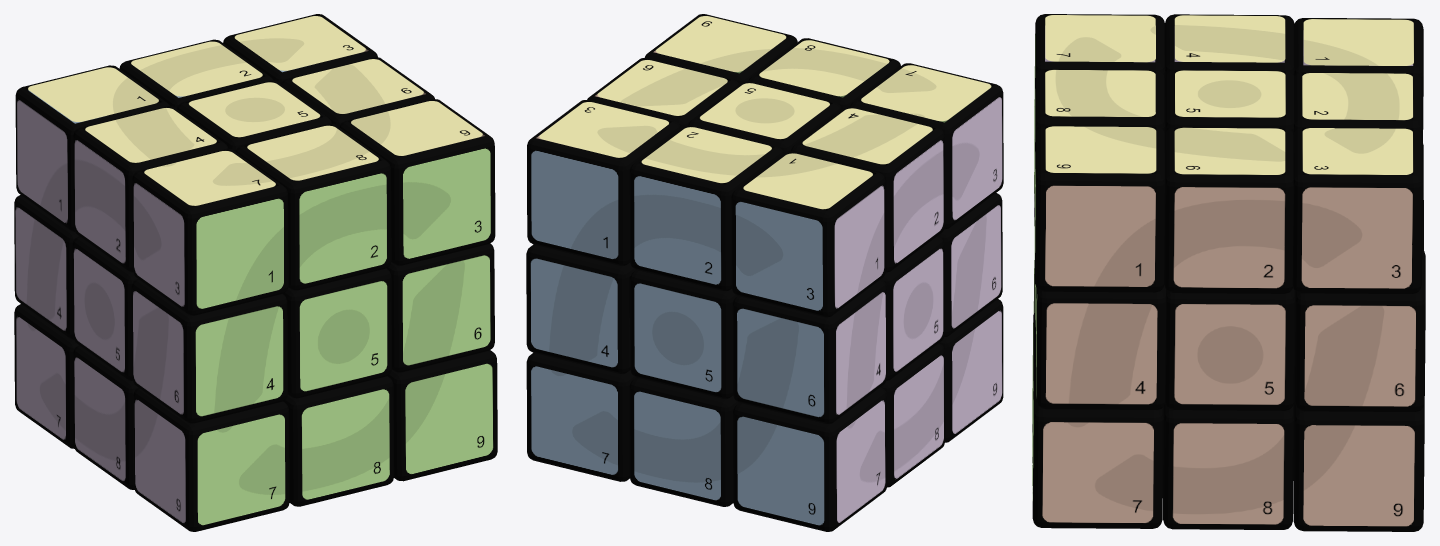
The model's file is Rubix_cube_PASTEL_transFinal2_.glb.
3 renders of one model, left to right at view 1: azimuth 30°, elevation 25°; view 2: azimuth 150°, elevation 25°; view 3: azimuth 270°, elevation 25°, orthographic. The views are drawn at different scales.
Parts seen in each view (by area): view 1: s3_block_7.001, s3_block_4.001, s3_block_6.001, s3_block_9.001, s3_block_5.001, s3_block_1.001, s3_block_2.001, s3_block_8.001, s3_block_3.001, top_block_7.002, s4_block_4.001, s4_block_8.001 (+34 smaller); view 2: s1_block_9.001, s1_block_5.001, s1_block_1.001, s1_block_6.001, s1_block_4.001, s1_block_2.001, s1_block_7.001, s1_block_3.001, s1_block_8.001, top_block_1.002, s4_block_1.001, s4_block_5.001 (+34 smaller); view 3: s2_block_6.001, s2_block_4.001, s2_block_9.001, s2_block_3.001, s2_block_8.001, s2_block_2.001, s2_block_7.001, s2_block_1.001, s2_block_5.001, top_block_9.001, top_block_3.002, top_block_6.002 (+21 smaller).
Part boxes in pixels (left/top/right/bottom): s3_block_7.001: left=197, top=413, right=285, bottom=526; s3_block_4.001: left=195, top=304, right=283, bottom=417; s3_block_6.001: left=402, top=253, right=490, bottom=366; s3_block_9.001: left=405, top=362, right=493, bottom=475; s3_block_5.001: left=299, top=279, right=387, bottom=392; s3_block_1.001: left=196, top=196, right=284, bottom=309; s3_block_2.001: left=299, top=171, right=387, bottom=284; s3_block_8.001: left=301, top=388, right=389, bottom=501; s3_block_3.001: left=403, top=147, right=490, bottom=260; top_block_7.002: left=132, top=149, right=288, bottom=315; s4_block_4.001: left=15, top=205, right=66, bottom=332; s4_block_8.001: left=74, top=355, right=125, bottom=482; s1_block_9.001: left=737, top=415, right=824, bottom=526; s1_block_5.001: left=634, top=282, right=721, bottom=393; s1_block_1.001: left=531, top=149, right=618, bottom=260; s1_block_6.001: left=737, top=307, right=824, bottom=418; s1_block_4.001: left=530, top=257, right=617, bottom=368; s1_block_2.001: left=634, top=174, right=721, bottom=285; s1_block_7.001: left=531, top=365, right=618, bottom=476; s1_block_3.001: left=735, top=200, right=822, bottom=311; s1_block_8.001: left=634, top=390, right=720, bottom=501; top_block_1.002: left=731, top=151, right=885, bottom=317; s4_block_1.001: left=834, top=183, right=884, bottom=310; s4_block_5.001: left=893, top=246, right=943, bottom=373; s2_block_6.001: left=1304, top=305, right=1416, bottom=406; s2_block_4.001: left=1045, top=303, right=1157, bottom=404; s2_block_9.001: left=1303, top=425, right=1415, bottom=526; s2_block_3.001: left=1301, top=187, right=1413, bottom=288; s2_block_8.001: left=1172, top=423, right=1284, bottom=524; s2_block_2.001: left=1173, top=187, right=1285, bottom=288; s2_block_7.001: left=1042, top=422, right=1153, bottom=523; s2_block_1.001: left=1044, top=185, right=1156, bottom=286; s2_block_5.001: left=1174, top=304, right=1285, bottom=405; top_block_9.001: left=1035, top=125, right=1165, bottom=292; top_block_3.002: left=1292, top=127, right=1422, bottom=293; top_block_6.002: left=1164, top=127, right=1293, bottom=293.
Size of the model in its own units: 6.07 by 6.1 by 6.06.
Materials: 7 (6 with a texture image).
